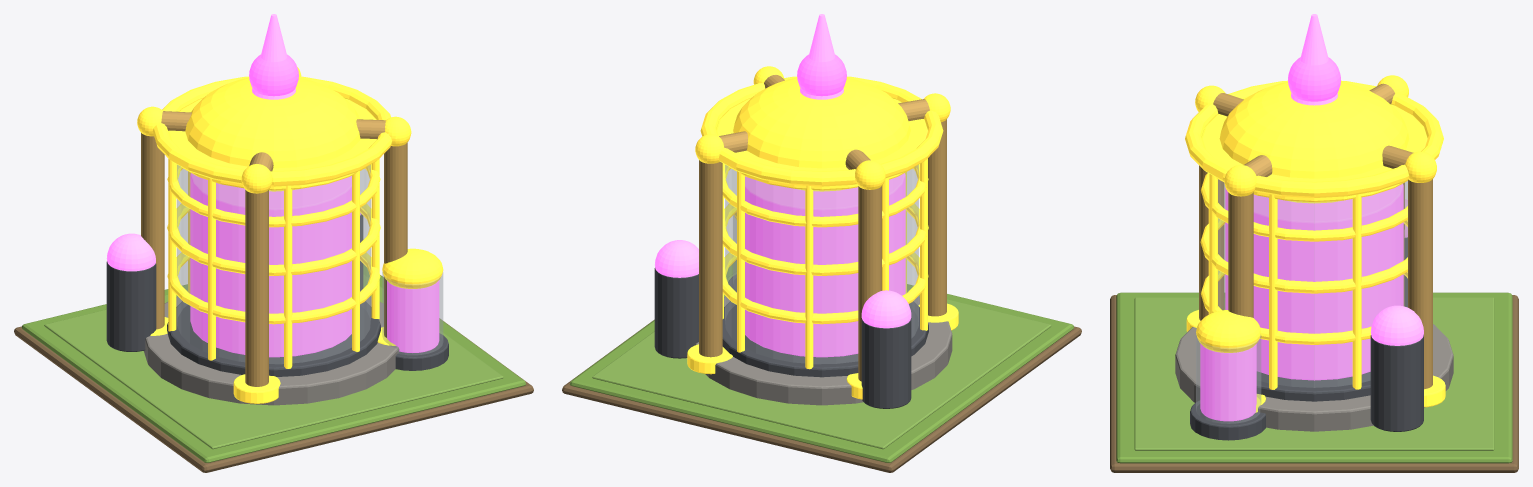
The model's file is elixir_collector_lv7.glb.
The picture shows the model from 3 angles, left to right: view 1: azimuth 30°, elevation 25°; view 2: azimuth 150°, elevation 25°; view 3: azimuth 270°, elevation 25°; orthographic projection. The views are drawn at different scales.
Parts seen in each view (by area): view 1: GlassCylinder, ElixirLiquid, Base_Inner, BrassDome, Base_Grass, WellBase, Base_Dirt, EC_CrownHalo, WellIronRing, PipeDown_3, AuxTankGlass, EC_BoosterTank_-1 (+21 smaller); view 2: GlassCylinder, Base_Inner, ElixirLiquid, BrassDome, Base_Grass, WellBase, Base_Dirt, EC_CrownHalo, PipeDown_1, EC_BoosterTank_-1, WellIronRing, EC_BoosterTank_1 (+17 smaller); view 3: Base_Inner, GlassCylinder, ElixirLiquid, BrassDome, Base_Grass, Base_Dirt, WellBase, EC_CrownHalo, AuxTankGlass, EC_BoosterTank_1, PipeDown_1, AuxTankElixir (+21 smaller).
Boxes of the visible parts, x1,y1,x2,y2 form: GlassCylinder: [177, 165, 370, 363]; ElixirLiquid: [190, 173, 351, 357]; Base_Inner: [44, 274, 503, 449]; BrassDome: [185, 77, 360, 191]; Base_Grass: [22, 264, 526, 462]; WellBase: [144, 296, 399, 405]; Base_Dirt: [14, 275, 533, 472]; EC_CrownHalo: [152, 76, 391, 186]; WellIronRing: [167, 301, 380, 376]; PipeDown_3: [245, 190, 268, 386]; AuxTankGlass: [382, 272, 443, 354]; EC_BoosterTank_-1: [106, 261, 156, 351]; GlassCylinder: [725, 165, 918, 363]; Base_Inner: [592, 271, 1051, 449]; ElixirLiquid: [745, 173, 905, 357]; BrassDome: [733, 77, 910, 191]; Base_Grass: [569, 260, 1073, 462]; WellBase: [695, 292, 952, 405]; Base_Dirt: [562, 319, 1081, 472]; EC_CrownHalo: [700, 76, 943, 186]; PipeDown_1: [699, 160, 722, 357]; EC_BoosterTank_-1: [861, 318, 911, 408]; WellIronRing: [722, 301, 928, 377]; EC_BoosterTank_1: [654, 268, 698, 358]; Base_Inner: [1134, 297, 1494, 450]; GlassCylinder: [1218, 179, 1407, 387]; ElixirLiquid: [1225, 183, 1403, 380]; BrassDome: [1219, 82, 1409, 203]; Base_Grass: [1116, 292, 1512, 463]; Base_Dirt: [1110, 295, 1518, 472]; WellBase: [1175, 324, 1453, 431]; EC_CrownHalo: [1185, 80, 1443, 197]; AuxTankGlass: [1196, 335, 1261, 423]; EC_BoosterTank_1: [1370, 335, 1423, 431]; PipeDown_1: [1408, 179, 1432, 389]; AuxTankElixir: [1200, 343, 1256, 421].
Size of the model in its own units: 2.76 by 2.78 by 2.76.
